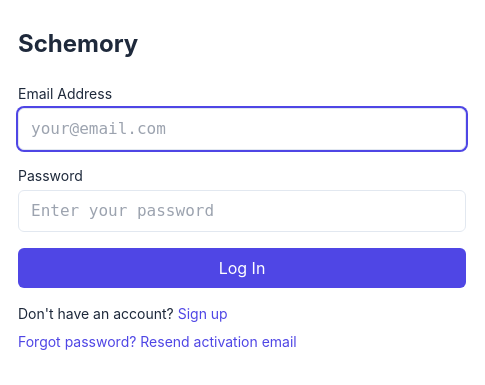
Test: Login › shows error message on login failure
Type "test@example.com" into the field labelled "Email Address".
click(242, 129); type("test@example.com")  # box [18, 108, 466, 150]
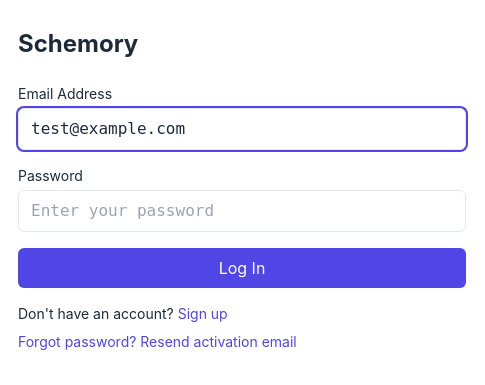
Type "wrongpassword" into the password field labelled "Password".
click(242, 211); type("wrongpassword")  # box [18, 190, 466, 232]
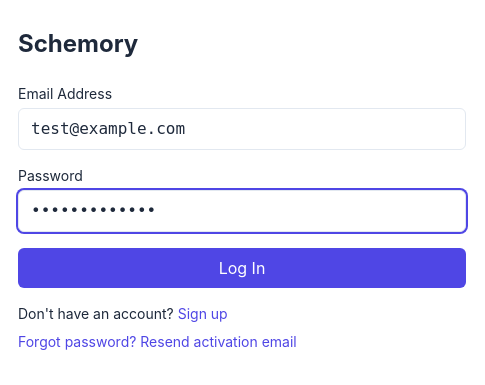
Click the button "Log In".
click(242, 268)  # box [18, 248, 466, 288]
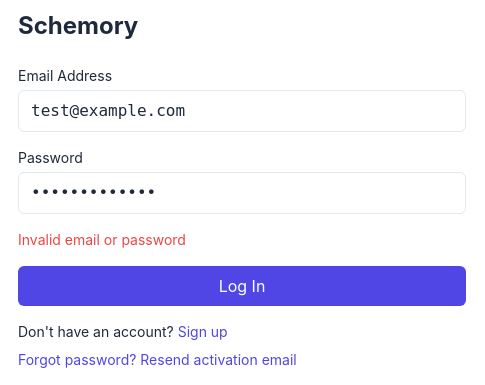
Now the text "Invalid email or password" is shown, box [18, 231, 186, 248]
